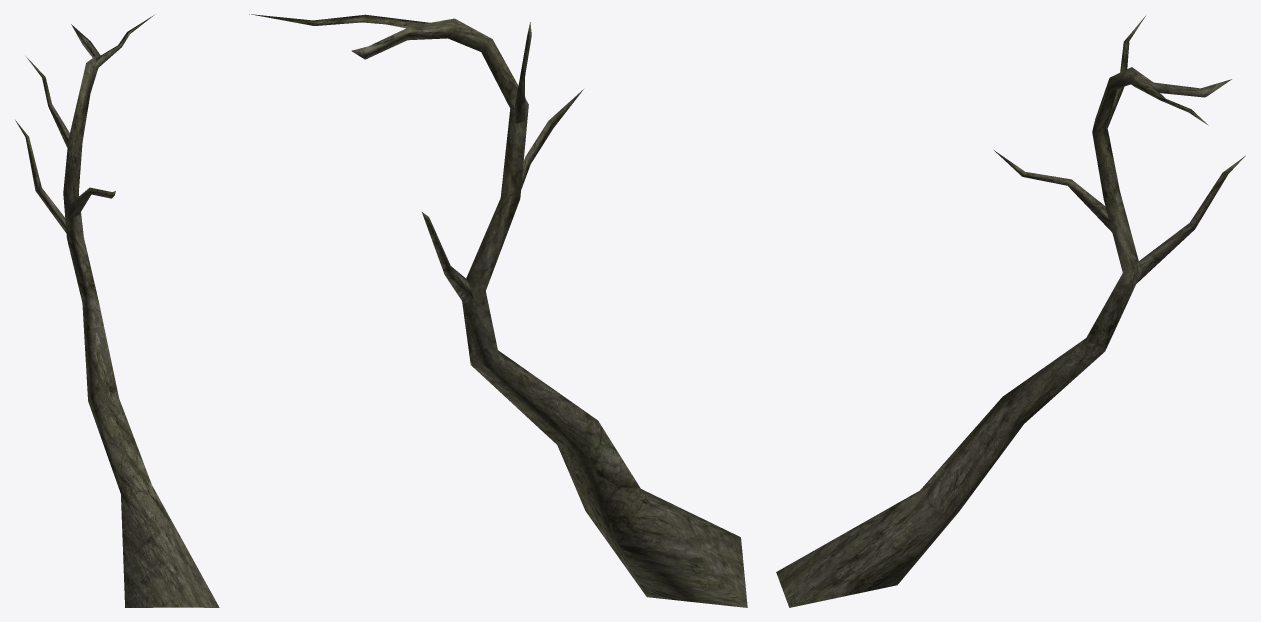
Rendered from TI_Old_Tree_Branch_05.fbx.
3 views of the same model, side by side, from view 1: azimuth 30°, elevation 25°; view 2: azimuth 150°, elevation 25°; view 3: azimuth 270°, elevation 25° (orthographic). The views are drawn at different scales.
Visible parts, largest first — view 1: TI_Old_Tree_Branch_05; view 2: TI_Old_Tree_Branch_05; view 3: TI_Old_Tree_Branch_05.
Part boxes in pixels (x1=…): TI_Old_Tree_Branch_05: x1=15, y1=15, x2=219, y2=607; TI_Old_Tree_Branch_05: x1=249, y1=14, x2=747, y2=607; TI_Old_Tree_Branch_05: x1=776, y1=16, x2=1245, y2=607.
Size of the model in its own units: 2.85 by 7.13 by 5.37.
